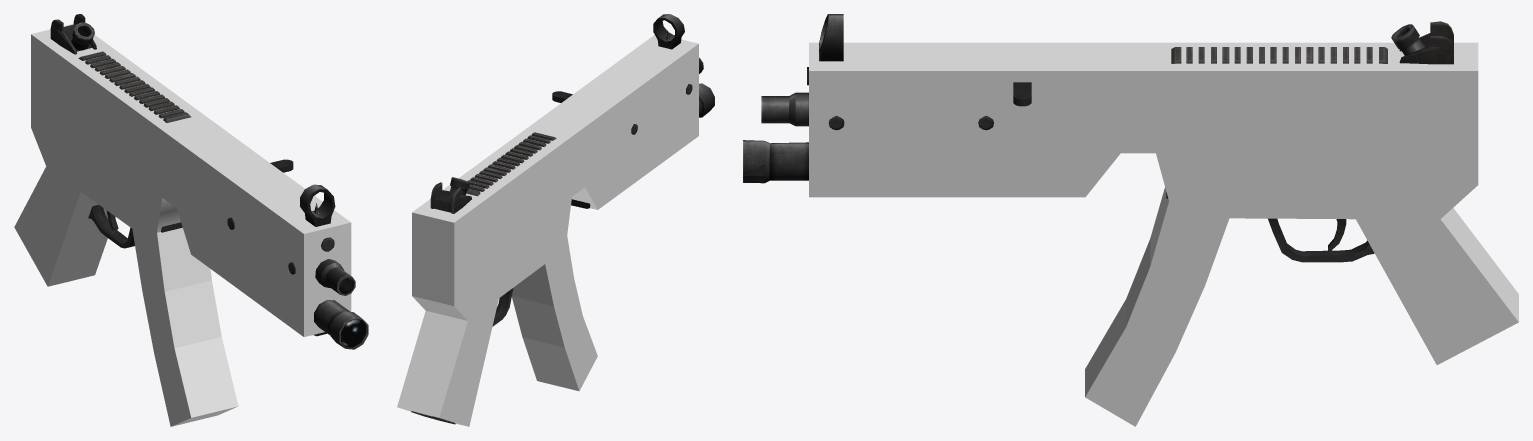
3 views of the same model, side by side, from view 1: azimuth 30°, elevation 25°; view 2: azimuth 150°, elevation 25°; view 3: azimuth 270°, elevation 25° (orthographic). The views are drawn at different scales.
Parts seen in each view (by area): view 1: Box001, W_MP5; view 2: Box001, W_MP5; view 3: Box001, W_MP5.
Boxes of the visible parts, left/top/right/bottom form: Box001: left=14, top=23, right=351, bottom=426; W_MP5: left=50, top=14, right=368, bottom=349; Box001: left=397, top=35, right=698, bottom=426; W_MP5: left=411, top=14, right=714, bottom=424; Box001: left=809, top=42, right=1518, bottom=426; W_MP5: left=743, top=14, right=1453, bottom=262.
Size of the model in its own units: 10.04 by 40.53 by 71.82.
